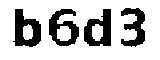3: (118, 7, 148, 49)
6: (46, 7, 81, 50)
b: (11, 6, 46, 51)
d: (82, 6, 113, 52)
